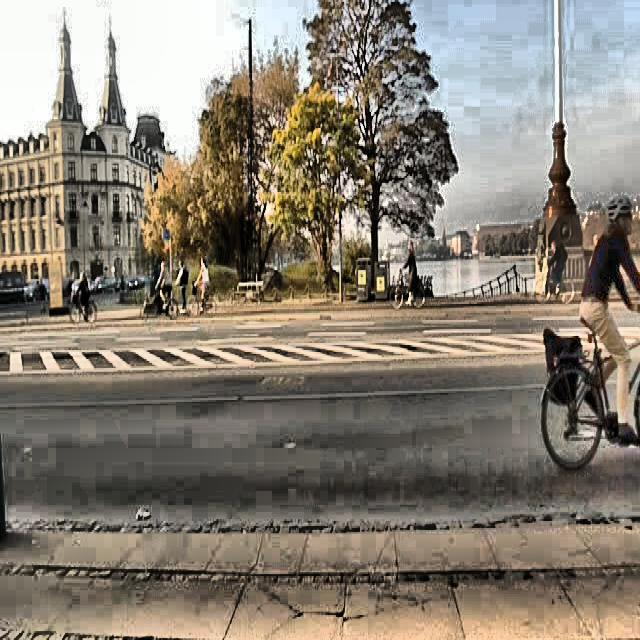bicycle: (535, 309, 640, 476)
